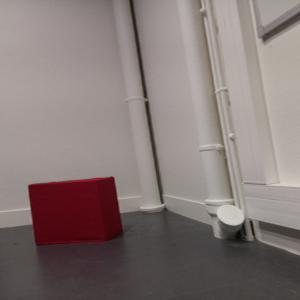medium: (27, 175, 128, 246)
